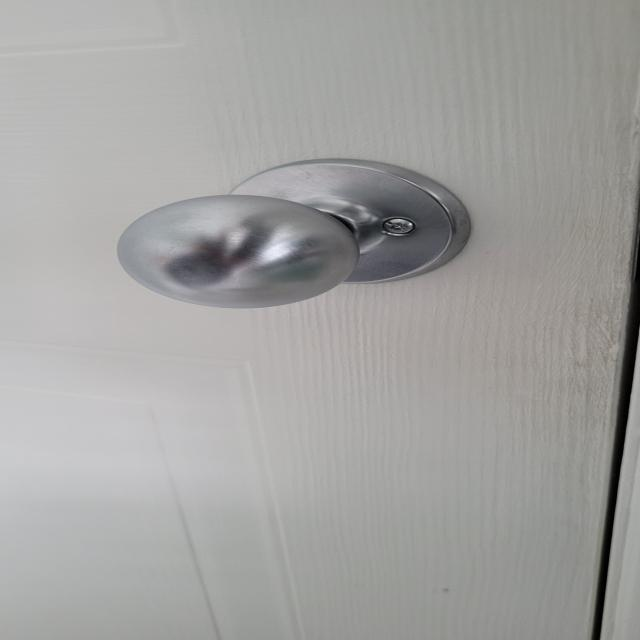door-knob: (119, 159, 471, 308)
